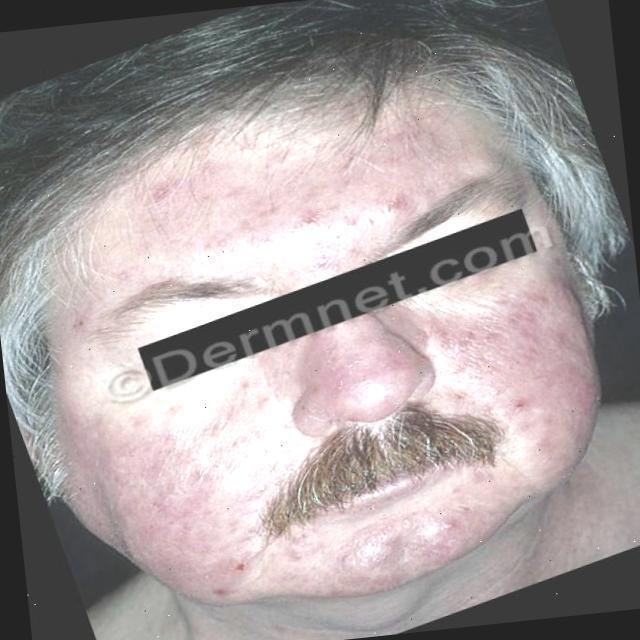skinredness: (61, 30, 640, 635)
